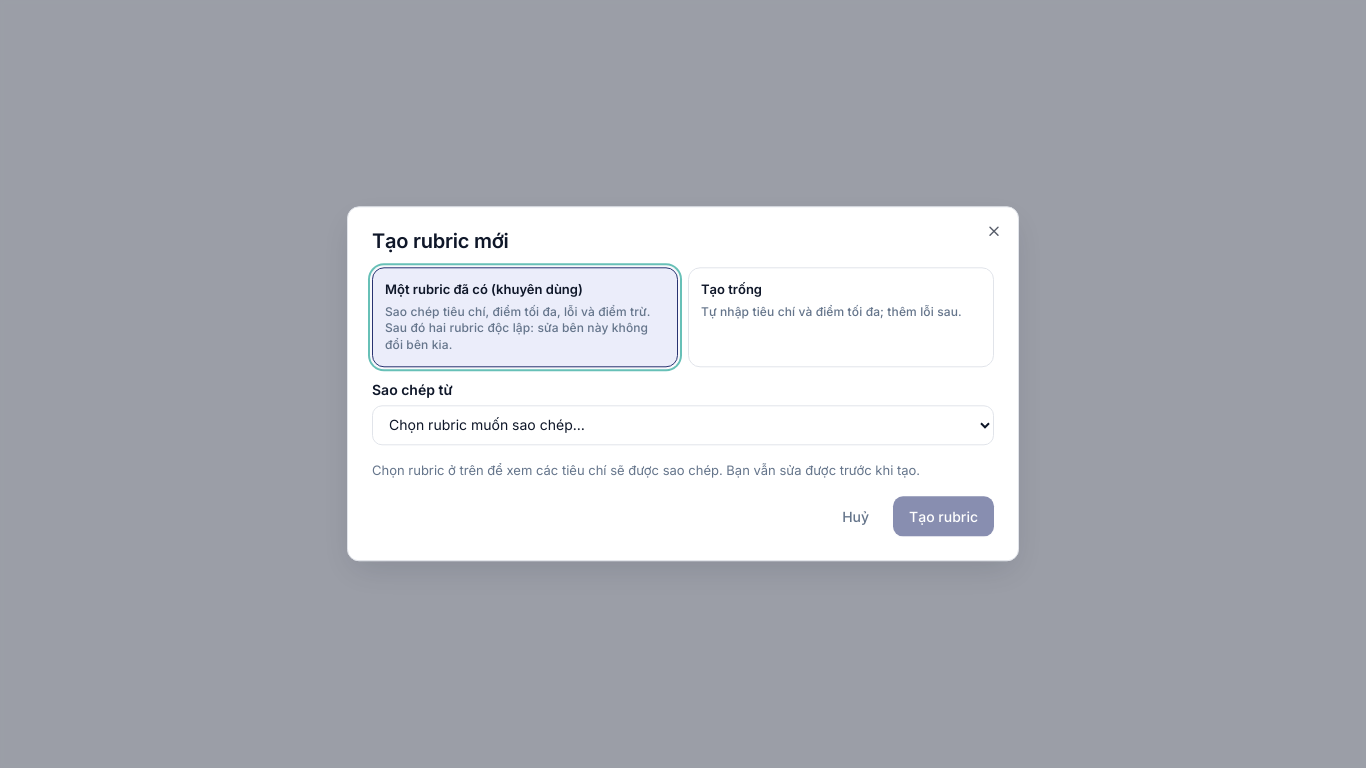
Test case: RubricDialog — tạo rubric mới › đã có rubric khác: sao chép (D3) › chọn nguồn: điền sẵn tên "… — bản sao", tiêu chí và điểm tối đa; hộp sao chép lỗi được chọn sẵn; không hỏi môn học
Select "Nguồn — 5 lỗi" in the dropdown labelled "Sao chép từ": (683, 425) x1=372 y1=405 x2=994 y2=445
(page scrolled)
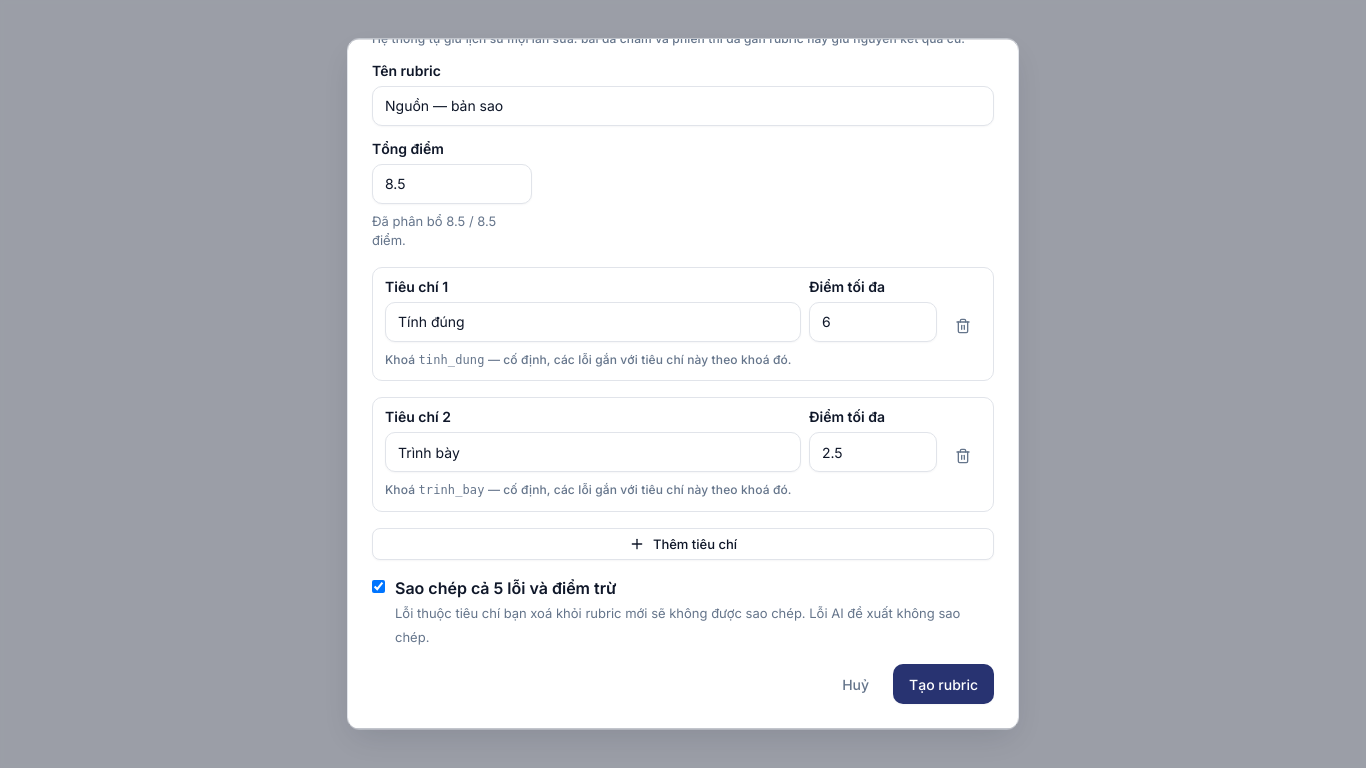
Expected: the field labelled "Tên rubric" holds "Nguồn — bản sao", x1=372 y1=86 x2=994 y2=126
Expected: the field labelled "Tiêu chí 1" holds "Tính đúng", x1=385 y1=302 x2=801 y2=342
Expected: the 2nd field labelled "Điểm tối đa" holds "2.5", x1=809 y1=433 x2=937 y2=473
